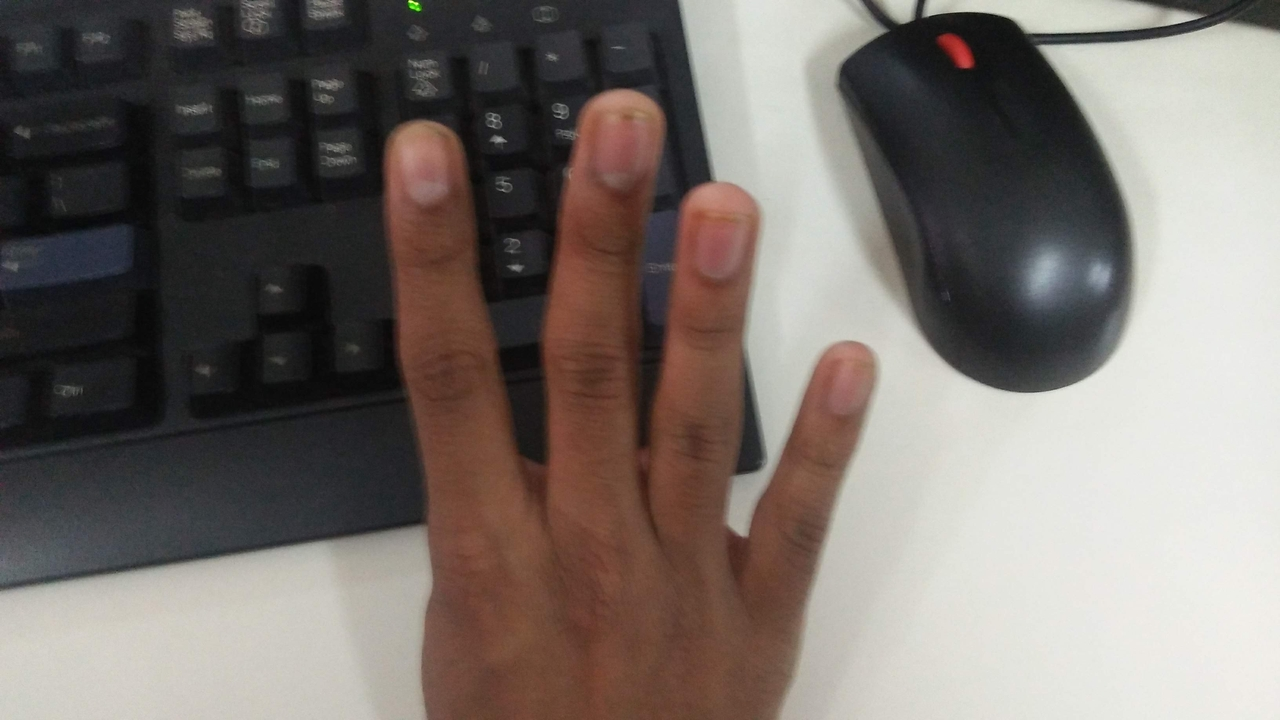fingertip: (679, 179, 771, 285), (567, 93, 661, 190), (372, 118, 462, 196), (804, 340, 888, 410)
